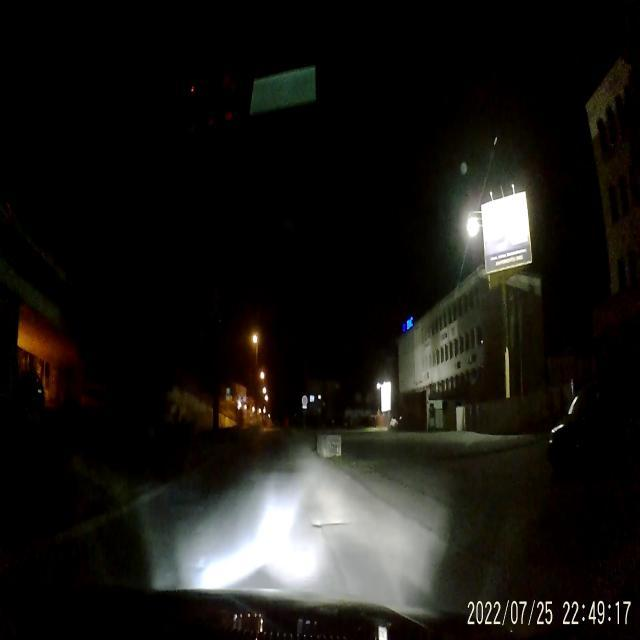Pothole: (312, 516, 348, 530)
